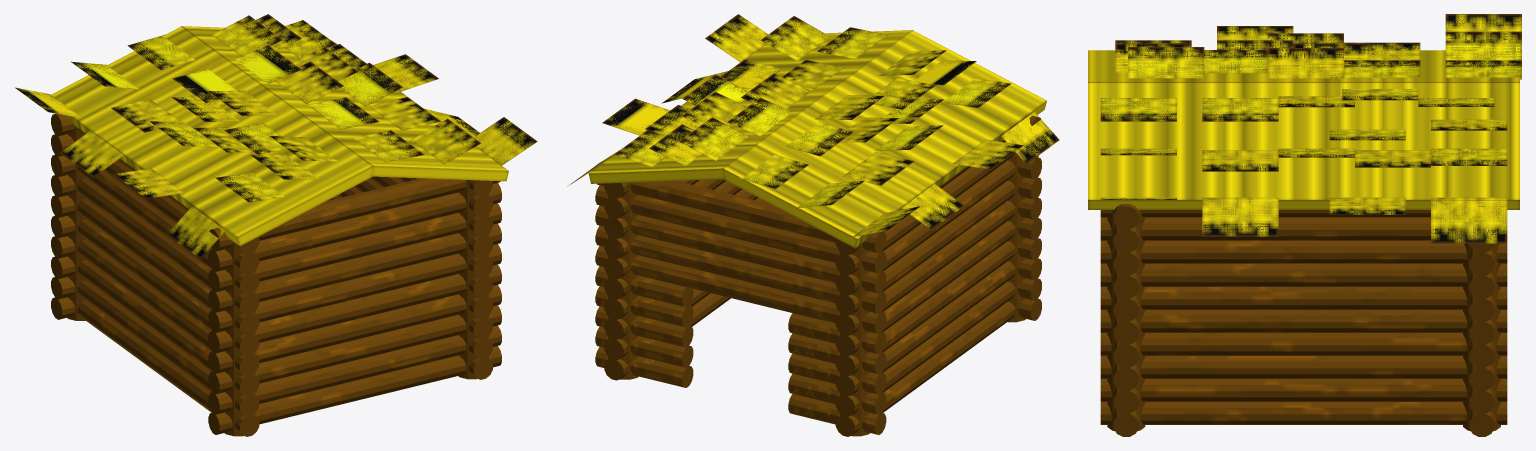
File: villageHouse.fbx
3 views of the same model, side by side, from view 1: azimuth 30°, elevation 25°; view 2: azimuth 150°, elevation 25°; view 3: azimuth 270°, elevation 25° (orthographic). The views are drawn at different scales.
Parts seen in each view (by area): view 1: cube_1, cube, cylinder_27, cylinder_28, cylinder_32, cylinder_25, cylinder_29, cylinder_30, cylinder_31, cylinder_26, cylinder_33, cylinder_24 (+45 smaller); view 2: cube_1, cube, cylinder_42, cylinder_48, cylinder_36, cylinder_35, cylinder_34, cylinder_5, cylinder_7, cylinder_9, cylinder_8, cylinder_6 (+53 smaller); view 3: cube, cylinder_17, cylinder_16, cylinder_18, cylinder_21, cylinder_19, cylinder_20, cylinder_22, cylinder_23, cylinder_15, cube_1, cube_8 (+48 smaller).
Boxes of the visible parts, <box> form: cube_1: <box>51,26,375,246</box>; cube: <box>181,26,508,181</box>; cylinder_27: <box>208,223,501,312</box>; cylinder_28: <box>208,244,501,333</box>; cylinder_32: <box>208,325,501,414</box>; cylinder_25: <box>208,183,501,271</box>; cylinder_29: <box>208,264,501,353</box>; cylinder_30: <box>208,285,501,373</box>; cylinder_31: <box>208,305,501,394</box>; cylinder_26: <box>208,203,501,292</box>; cylinder_33: <box>208,346,501,434</box>; cylinder_24: <box>209,178,500,251</box>; cube_1: <box>721,30,1046,248</box>; cube: <box>588,30,912,183</box>; cylinder_42: <box>595,225,886,313</box>; cylinder_48: <box>595,246,886,333</box>; cylinder_36: <box>595,205,886,293</box>; cylinder_35: <box>595,185,886,273</box>; cylinder_34: <box>597,181,886,253</box>; cylinder_5: <box>835,281,1015,416</box>; cylinder_7: <box>835,241,1015,376</box>; cylinder_9: <box>835,200,1015,335</box>; cylinder_8: <box>835,221,1015,355</box>; cylinder_6: <box>835,261,1015,396</box>; cube: <box>1088,81,1519,209</box>; cylinder_17: <box>1100,263,1507,286</box>; cylinder_16: <box>1100,240,1507,263</box>; cylinder_18: <box>1100,287,1507,309</box>; cylinder_21: <box>1100,356,1507,378</box>; cylinder_19: <box>1100,310,1507,332</box>; cylinder_20: <box>1100,333,1507,355</box>; cylinder_22: <box>1100,379,1507,401</box>; cylinder_23: <box>1100,402,1507,424</box>; cylinder_15: <box>1100,217,1430,240</box>; cube_1: <box>1088,50,1519,82</box>; cube_8: <box>1431,197,1507,243</box>.
Size of the model in its own units: 110 by 77.3 by 107.
Materials: 1 (1 with a texture image).
